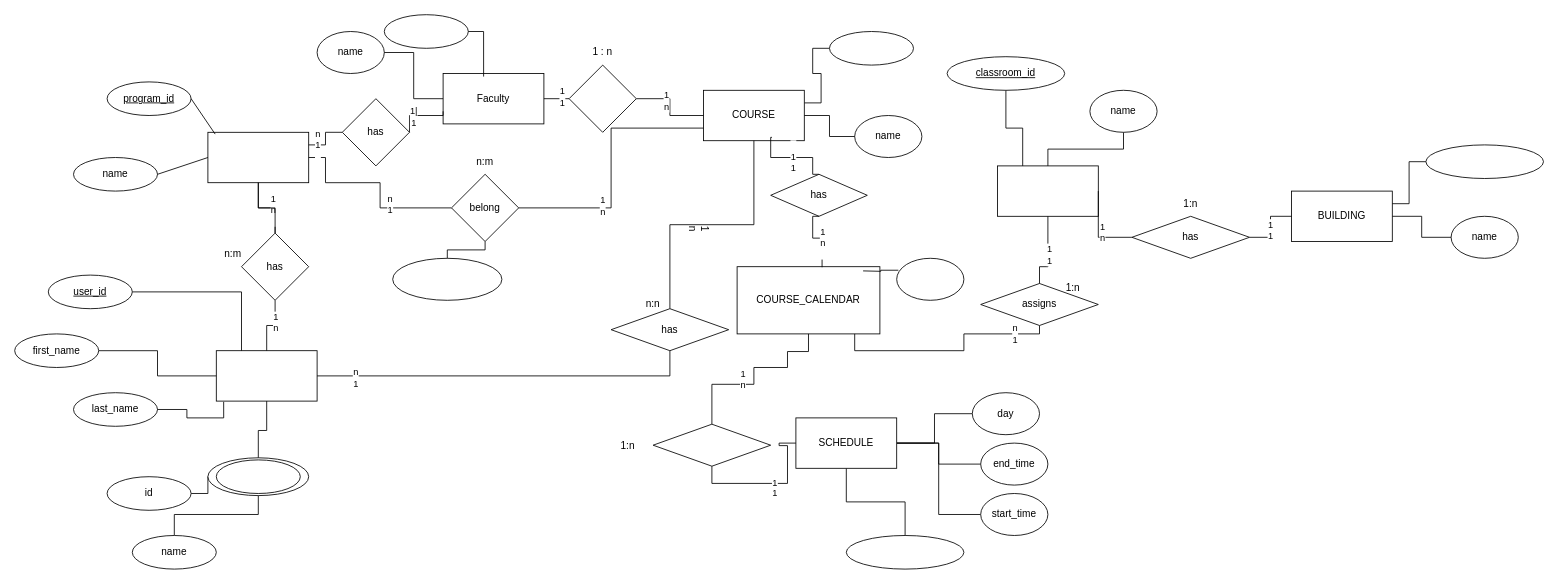
This 1558x584 diagram has some shape labels left out. The centre of each missing label's shape, as x and y in pixels:
"building_id" belongs at (1484,161).
"capacity" belongs at (930,278).
"CLASSROOM" belongs at (1047,190).
"course_id" belongs at (871,48).
"defines" belongs at (711,444).
"faculty_id" belongs at (425,31).
"offers" belongs at (602,98).
"PROGRAM" belongs at (258,157).
"role" belongs at (257,476).
"schedule_id" belongs at (904,552).
"semester_curriculum" belongs at (447,278).
"USER" belongs at (266,375).
